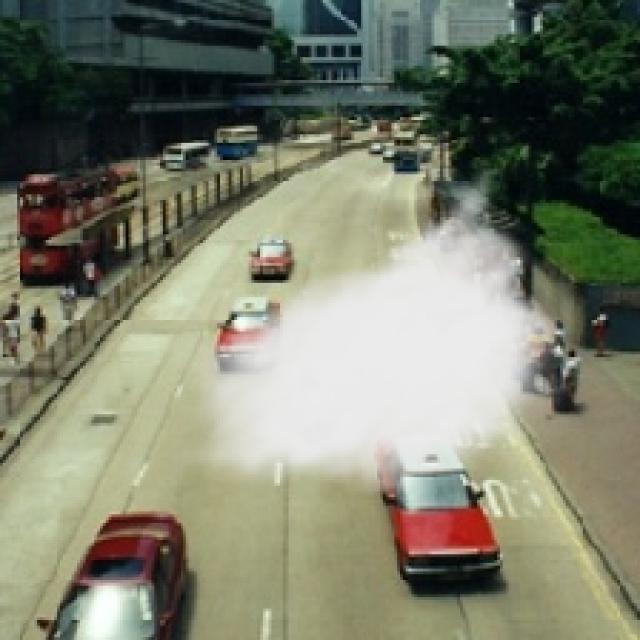Smoke: (168, 160, 578, 503)
